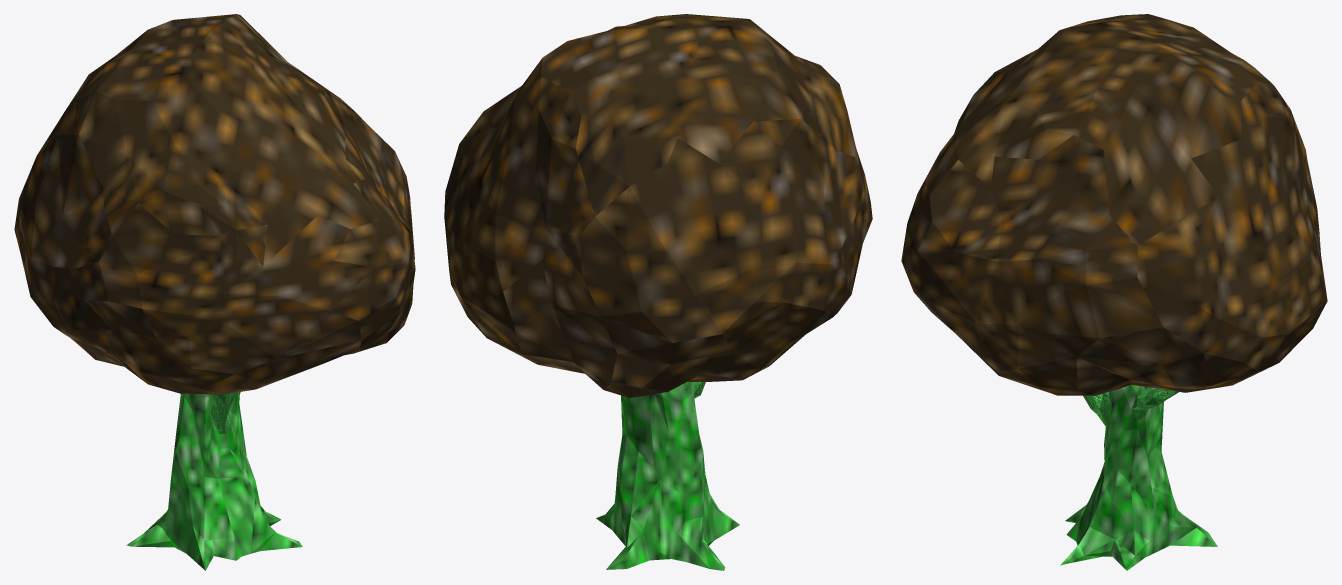
File: Tree4.obj
3 renders of one model, left to right at view 1: azimuth 30°, elevation 25°; view 2: azimuth 150°, elevation 25°; view 3: azimuth 270°, elevation 25°, orthographic. The views are drawn at different scales.
Visible parts, largest first — view 1: tree5; view 2: tree5; view 3: tree5.
Part boxes in pixels (bbox=[...]): tree5: bbox=[14, 14, 415, 570]; tree5: bbox=[444, 14, 872, 570]; tree5: bbox=[901, 14, 1327, 570].
Size of the model in its own units: 244 by 332 by 255.
Materials: 1 (1 with a texture image).
